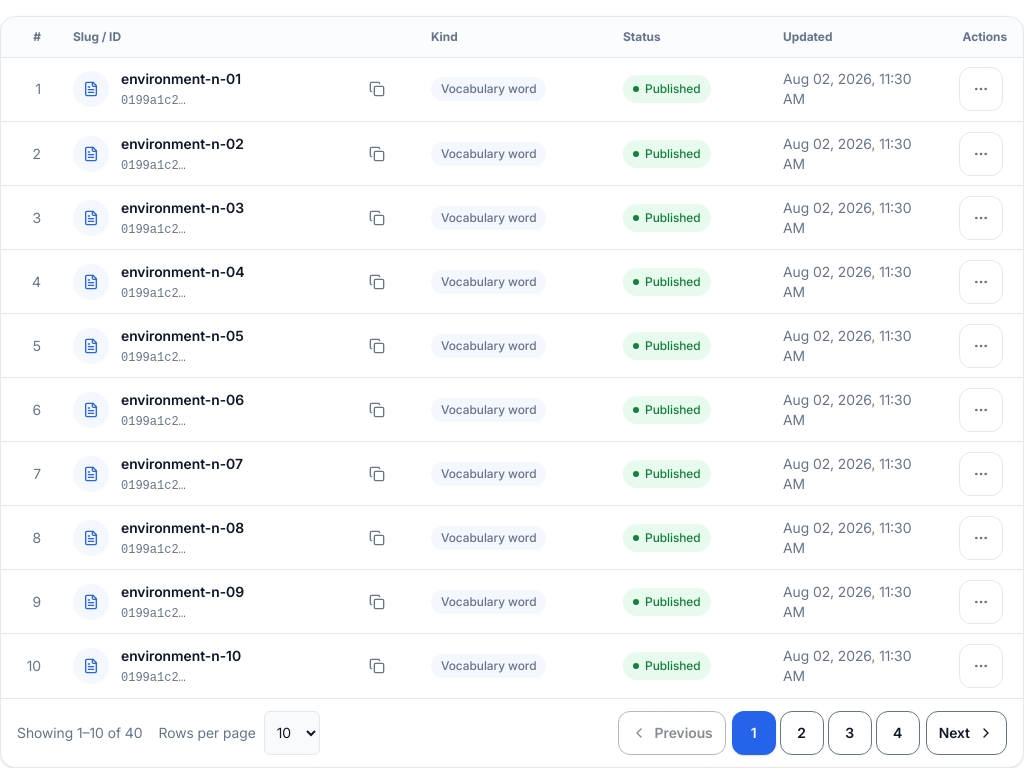
it: content library › walks offset pages, jumps to a numbered page and resets when page size changes
(page scrolled)
Click the button "Next" at (966, 732), box left=926, top=710, right=1007, bottom=754
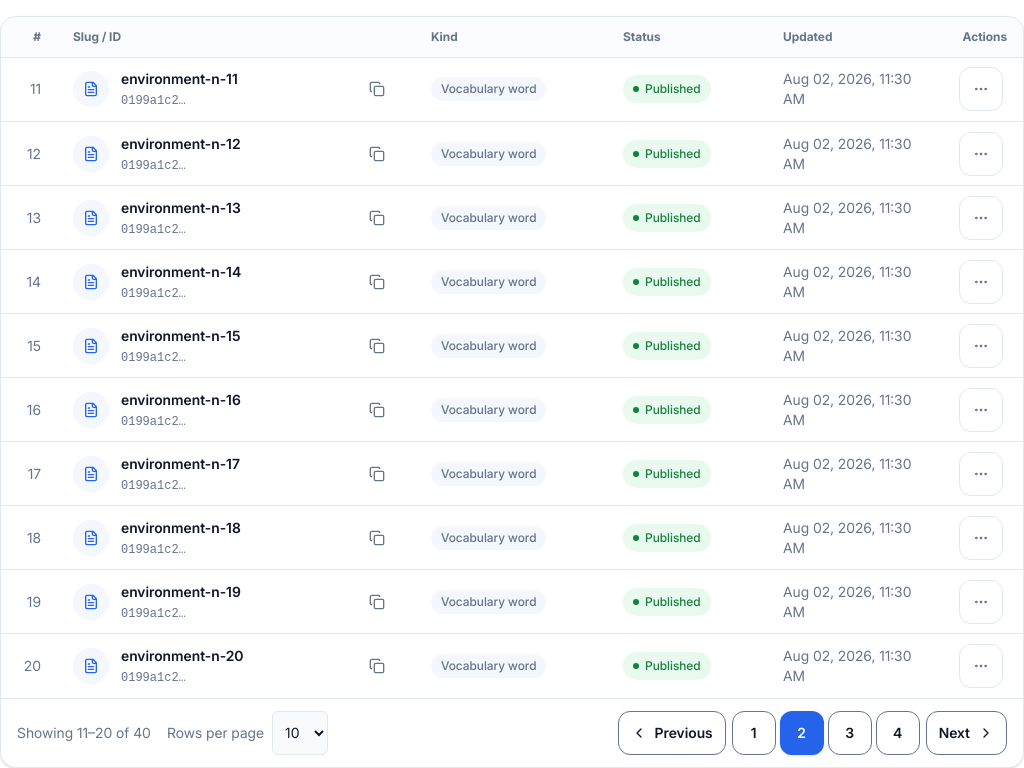
expect the text "environment-n-11" is shown: met, box left=121, top=69, right=238, bottom=89
Click the button named "Go to page 4" at (898, 732), box left=876, top=710, right=920, bottom=754
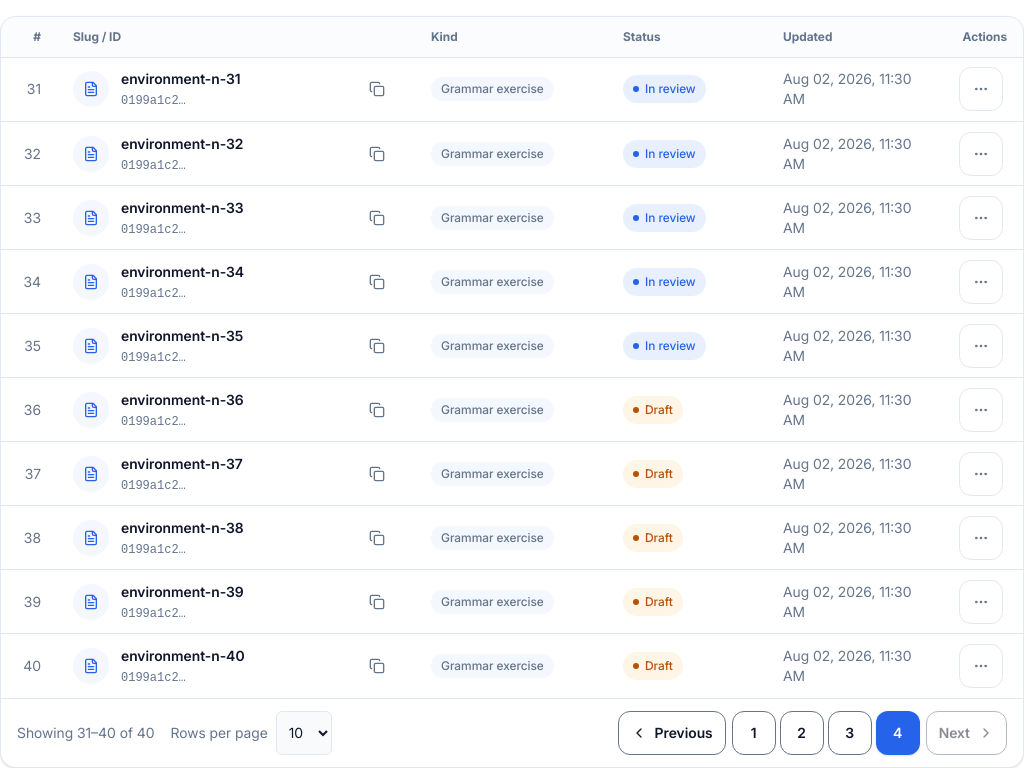
expect the text "environment-n-31" is shown: met, box left=121, top=69, right=241, bottom=89
Select "25" in the dropdown labelled "Rows per page" at (304, 732), box left=276, top=710, right=332, bottom=754
(page scrolled)
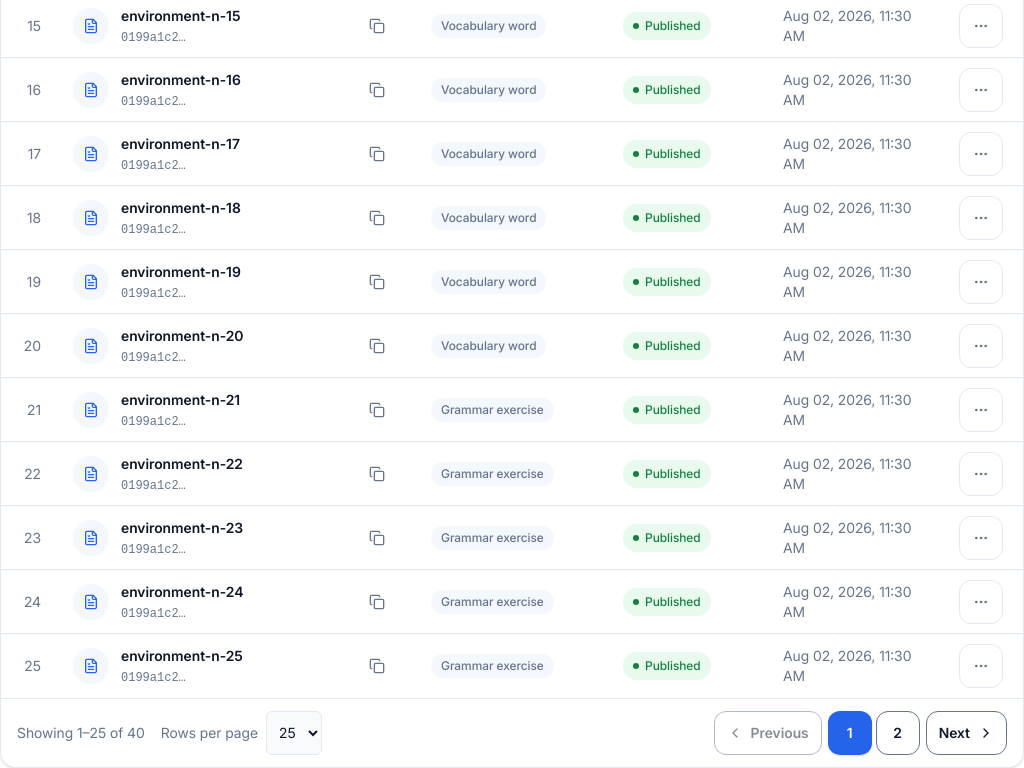
expect the text "Showing 1–25 of 40" is shown: met, box left=17, top=722, right=145, bottom=742
